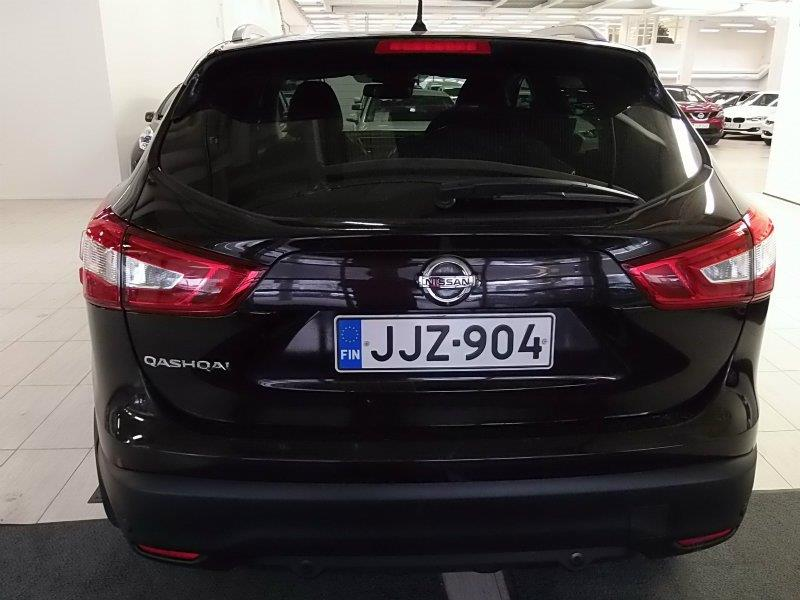license: (331, 312, 554, 376)
